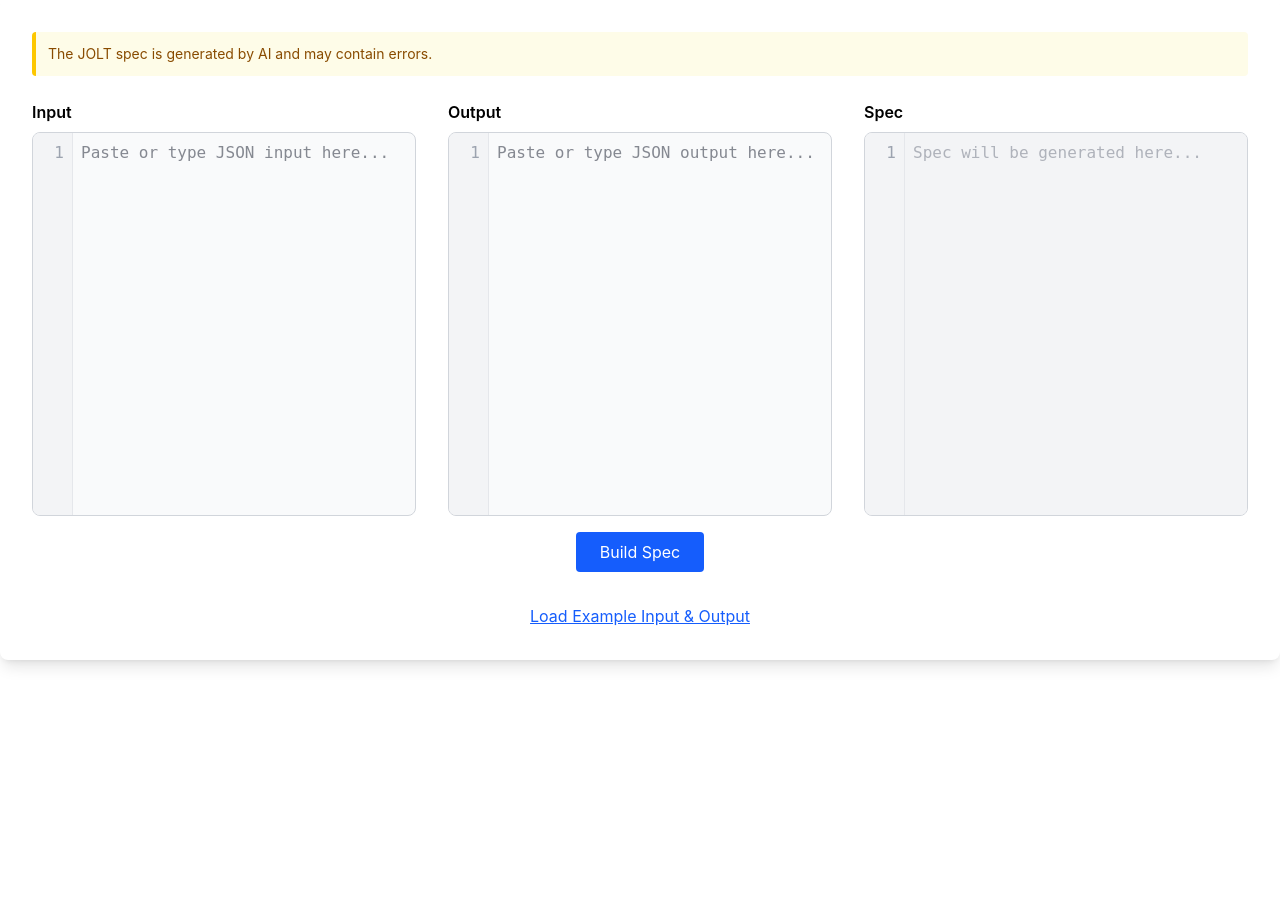
Test: BuildPage › shows an error when the API returns a non-ok response
This screenshot has width=1280, height=900.
Step 1. Click the button "Build Spec" → (640, 552), box [576,532,704,572]
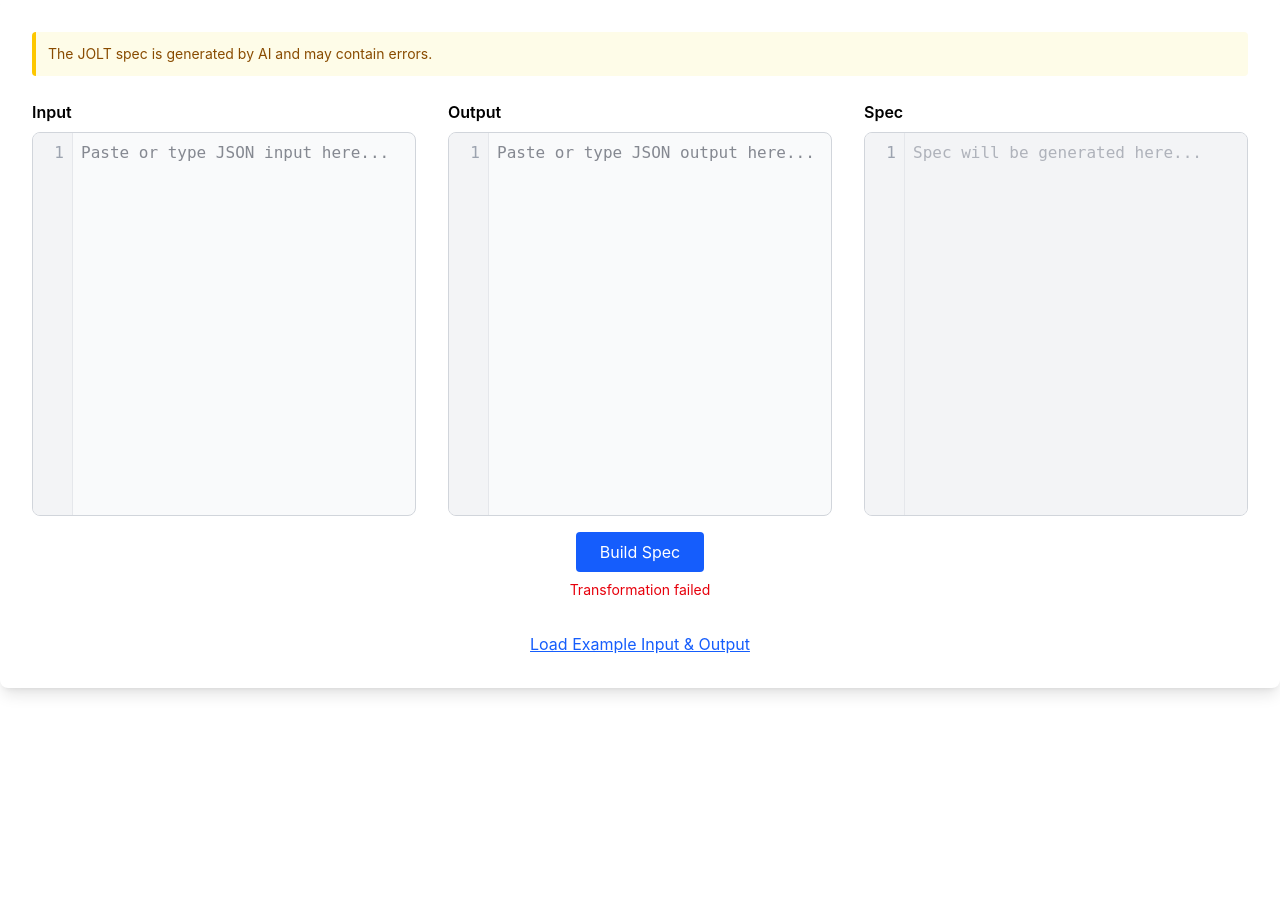
Check: the text "Transformation failed" is shown, box [570,580,710,600]
